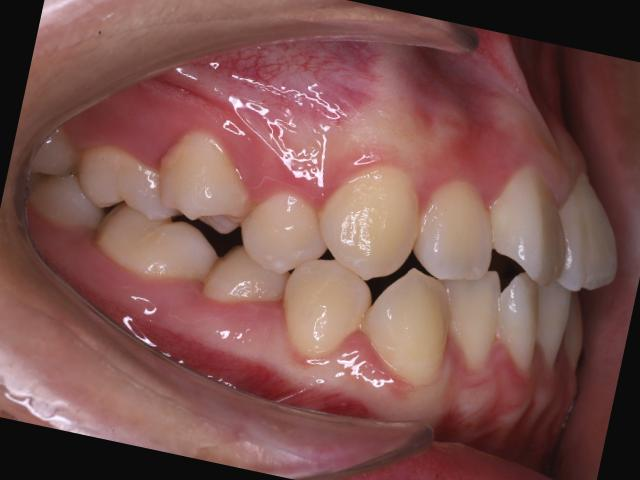canine class III 1/4: (266, 148, 482, 400)
molar class III 1/4: (47, 132, 238, 314)
